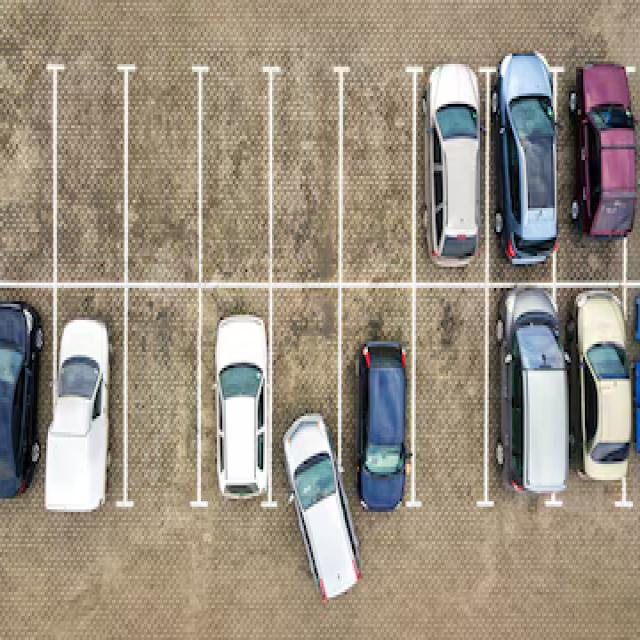libre: (0, 54, 416, 282), (130, 288, 202, 518), (425, 300, 487, 544)
ocupado: (208, 292, 415, 580), (419, 56, 640, 280), (495, 283, 640, 530), (1, 289, 124, 519)
